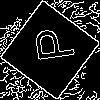P: (25, 25, 75, 65)
